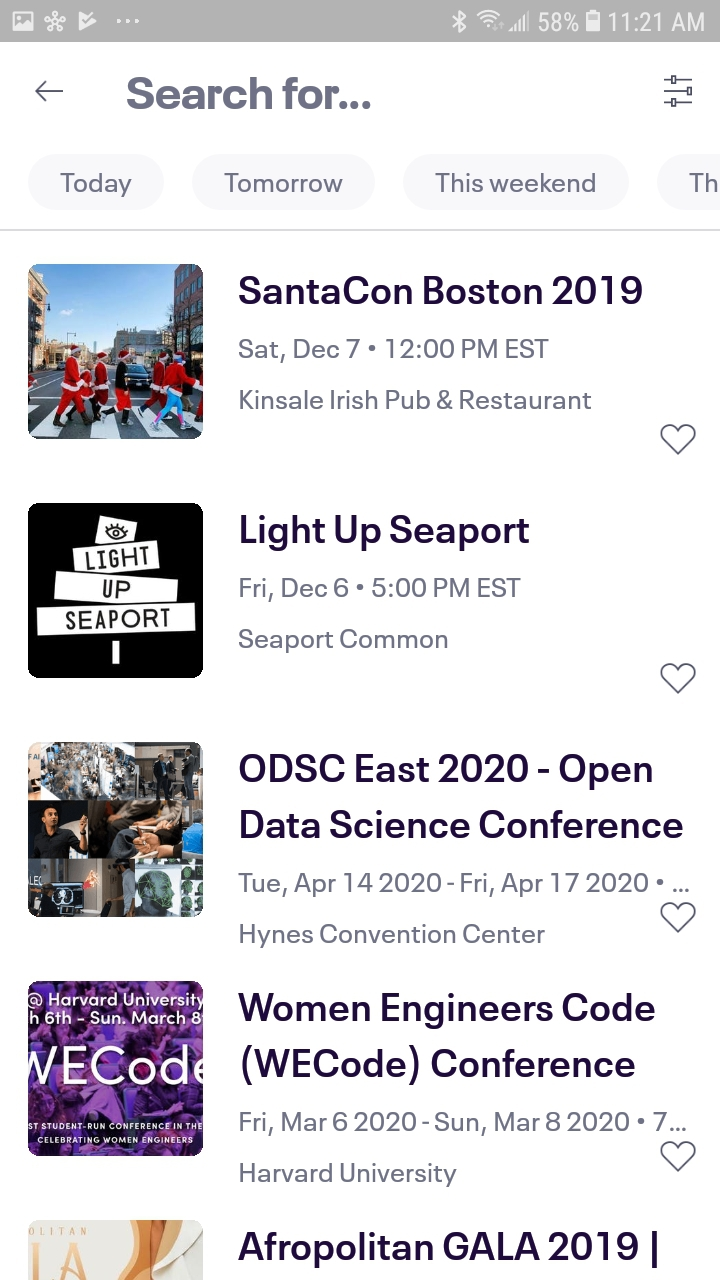Icon: (660, 423, 697, 456), (660, 663, 697, 695), (659, 902, 696, 934), (660, 1140, 697, 1172), (663, 76, 693, 109), (34, 79, 63, 102)
Image: (28, 742, 204, 918), (28, 503, 204, 679), (28, 264, 204, 440), (28, 981, 204, 1156), (28, 1220, 204, 1280)
Text: (238, 992, 655, 1086), (240, 753, 684, 839), (238, 1231, 658, 1269), (239, 276, 643, 306), (238, 872, 690, 898), (240, 1111, 687, 1137), (241, 514, 530, 552), (239, 339, 550, 365), (126, 76, 371, 109), (240, 923, 546, 949), (240, 389, 592, 410), (240, 577, 522, 603), (240, 1163, 458, 1188), (239, 628, 448, 654)
TextButton: (404, 155, 630, 212), (192, 155, 376, 212), (28, 154, 165, 212), (657, 153, 720, 211)
UpperTaskBar: (1, 1, 720, 43)
